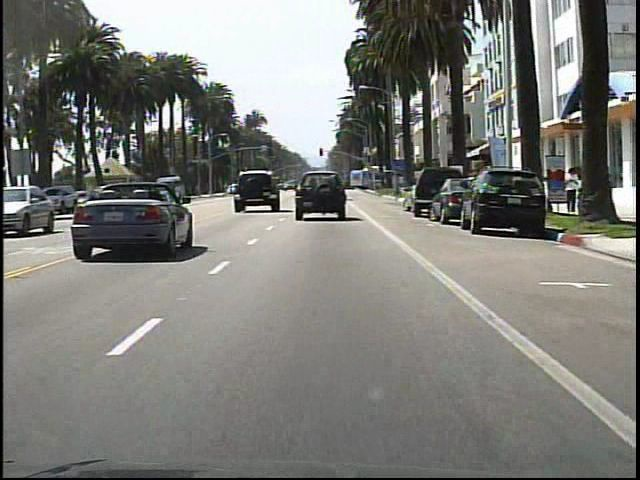person: (561, 166, 579, 215)
